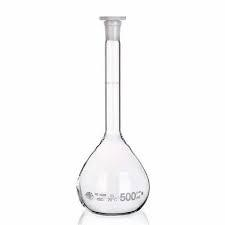Volumetric flask: (56, 9, 166, 212)
